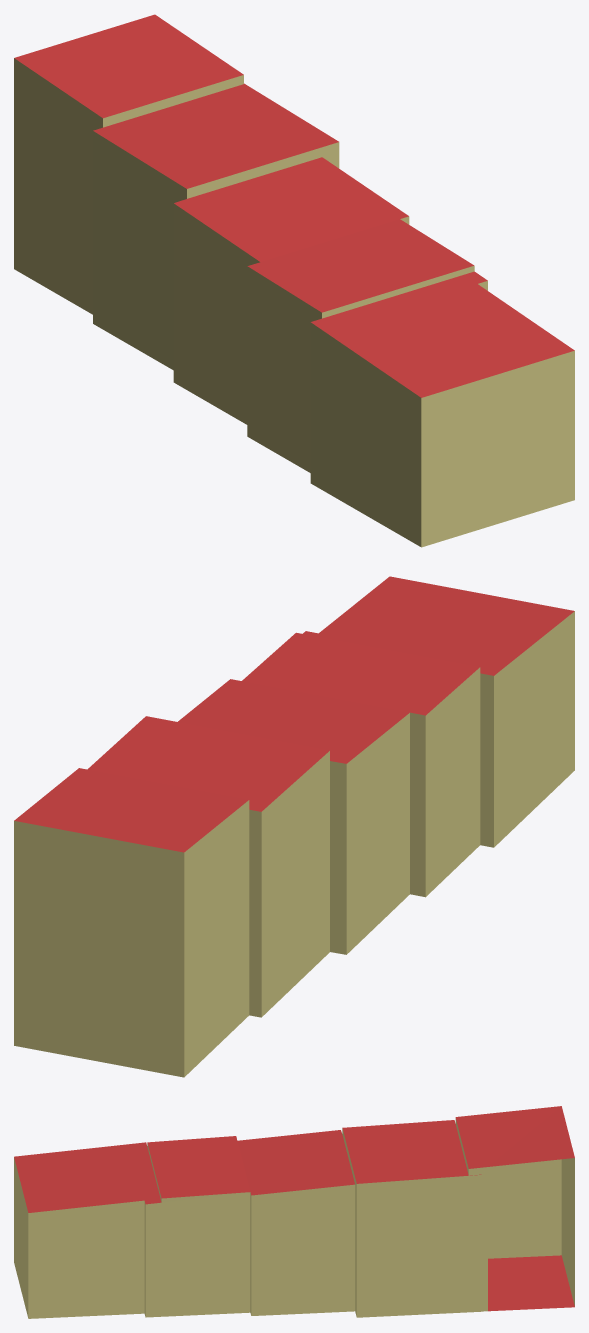
3 renders of one model, top to bottom at view 1: azimuth 30°, elevation 25°; view 2: azimuth 150°, elevation 25°; view 3: azimuth 270°, elevation 25°, orthographic. The views are drawn at different scales.
Size of the model in its own units: 7.27 by 27.11 by 7.96.
